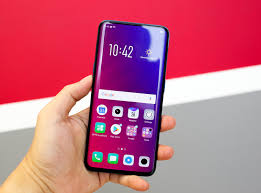oppo: (80, 18, 167, 178)
